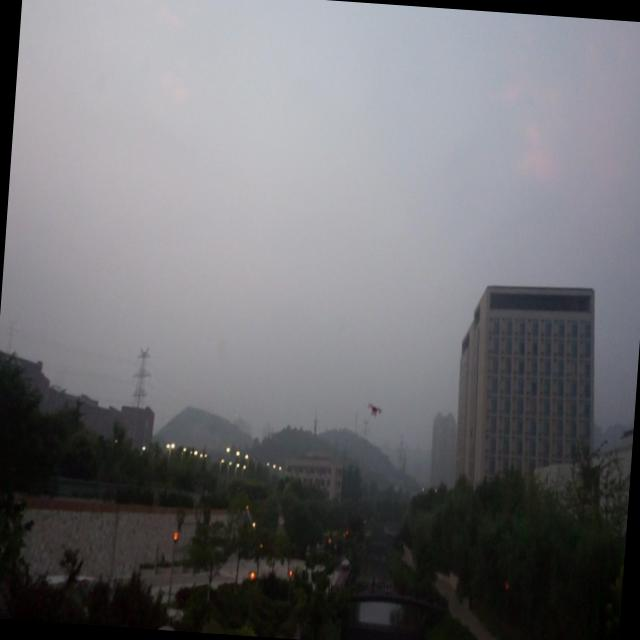drone: (366, 401, 384, 421)
